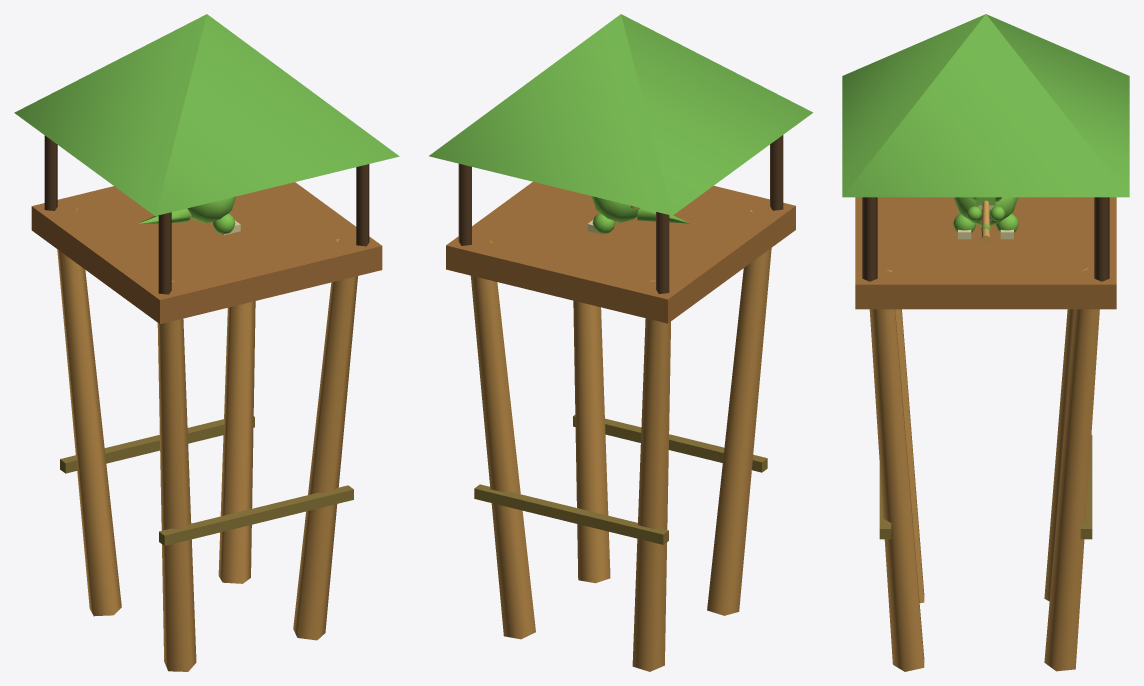
The model's file is level1.glb.
The picture shows the model from 3 angles, left to right: view 1: azimuth 30°, elevation 25°; view 2: azimuth 150°, elevation 25°; view 3: azimuth 270°, elevation 25°; orthographic projection.
Parts seen in each view (by area): view 1: object 12, object 7, object 1, object 4, object 3, object 2, object 5, object 6, turret, object 10, object 11, object 8; view 2: object 12, object 7, object 3, object 2, object 1, object 4, object 6, object 5, turret, object 9, object 8, object 10; view 3: object 12, object 7, object 2, object 4, turret, object 1, object 3, object 9, object 11, object 6.
Part boxes in pixels (bbox=[...]): object 12: bbox=[14, 14, 399, 215]; object 7: bbox=[31, 182, 382, 324]; object 1: bbox=[57, 208, 121, 616]; object 4: bbox=[293, 239, 357, 640]; object 3: bbox=[157, 280, 196, 671]; object 2: bbox=[218, 301, 255, 583]; object 5: bbox=[159, 485, 353, 545]; object 6: bbox=[60, 416, 254, 473]; turret: bbox=[138, 196, 240, 235]; object 10: bbox=[158, 212, 171, 294]; object 11: bbox=[356, 164, 369, 246]; object 8: bbox=[44, 135, 57, 210]; object 12: bbox=[429, 14, 813, 215]; object 7: bbox=[446, 182, 795, 323]; object 3: bbox=[707, 209, 771, 615]; object 2: bbox=[470, 239, 535, 639]; object 1: bbox=[632, 280, 670, 671]; object 4: bbox=[573, 300, 610, 583]; object 6: bbox=[474, 484, 668, 544]; object 5: bbox=[573, 415, 767, 472]; turret: bbox=[587, 196, 689, 234]; object 9: bbox=[458, 163, 471, 245]; object 8: bbox=[656, 212, 669, 293]; object 10: bbox=[770, 135, 783, 210]; object 12: bbox=[842, 14, 1129, 197]; object 7: bbox=[855, 197, 1116, 309]; object 2: bbox=[1044, 268, 1099, 671]; object 4: bbox=[869, 269, 924, 671]; turret: bbox=[953, 197, 1018, 242]; object 1: bbox=[1044, 309, 1074, 601]; object 3: bbox=[895, 309, 924, 603]; object 9: bbox=[1094, 197, 1109, 281]; object 11: bbox=[862, 197, 877, 281]; object 6: bbox=[1080, 435, 1092, 539].
Size of the model in its own units: 1.5 by 3.53 by 1.48.
